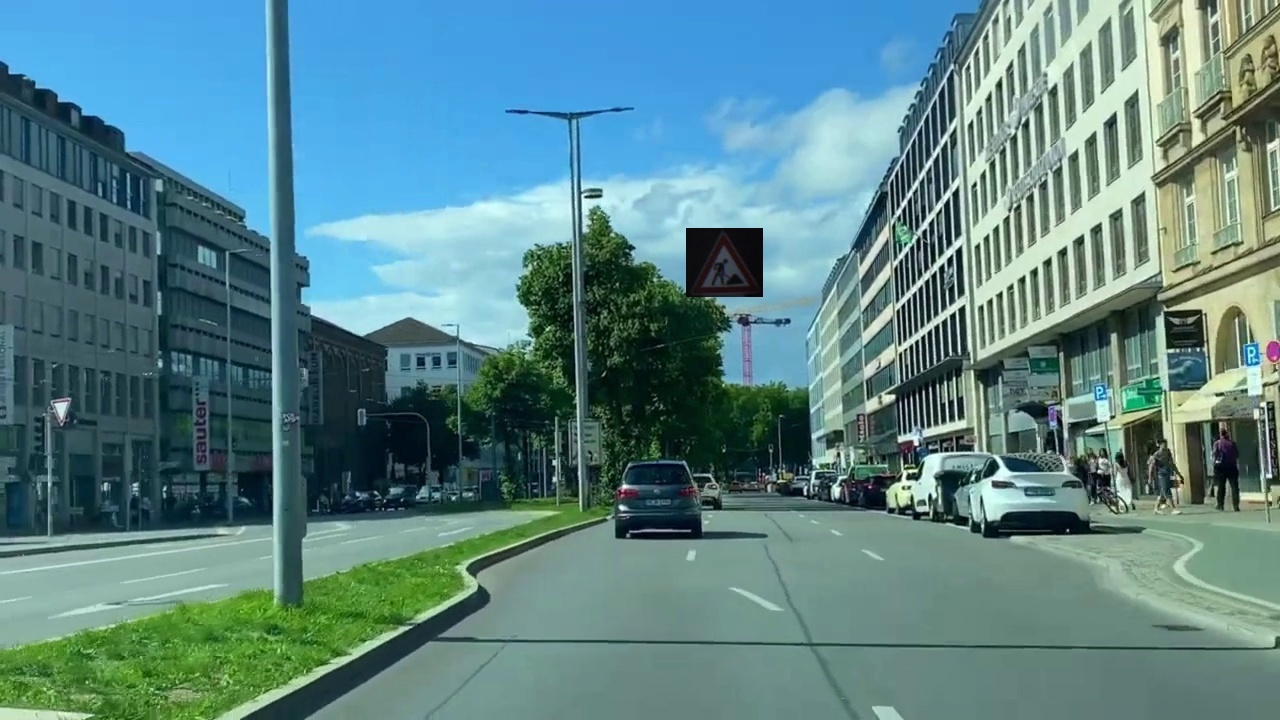Road work: (686, 228, 763, 297)
